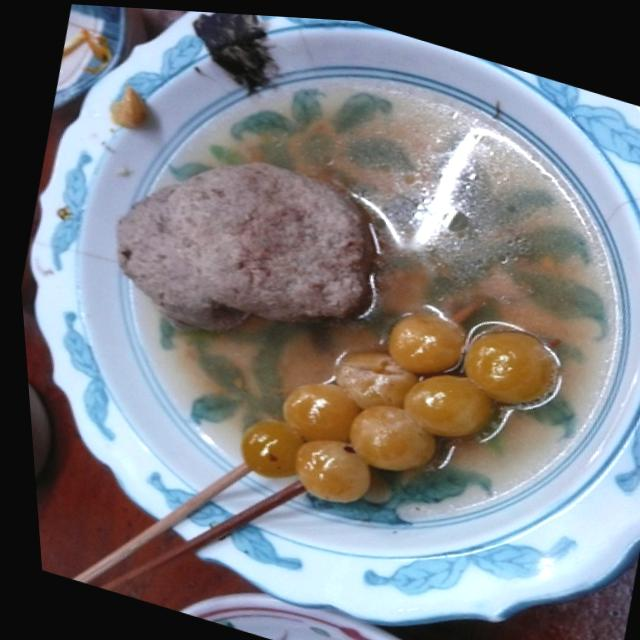汤锅炖物: (45, 109, 605, 571)
